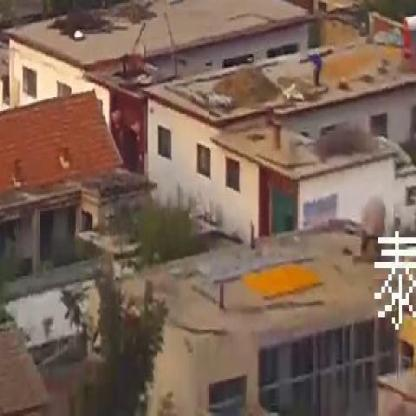other: (229, 251, 328, 302)
